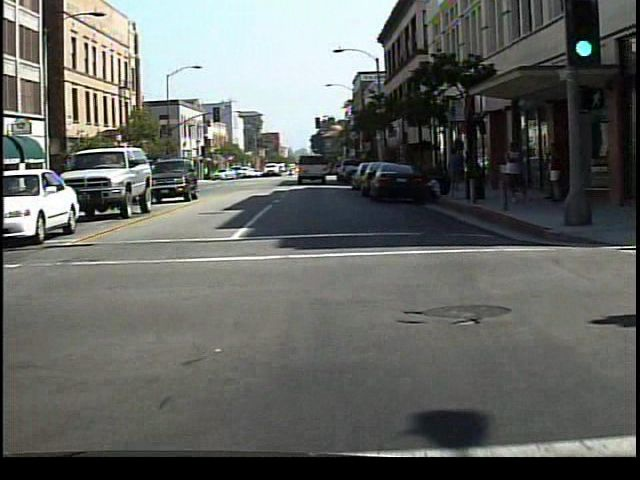person: (499, 136, 535, 213), (443, 143, 467, 200)
